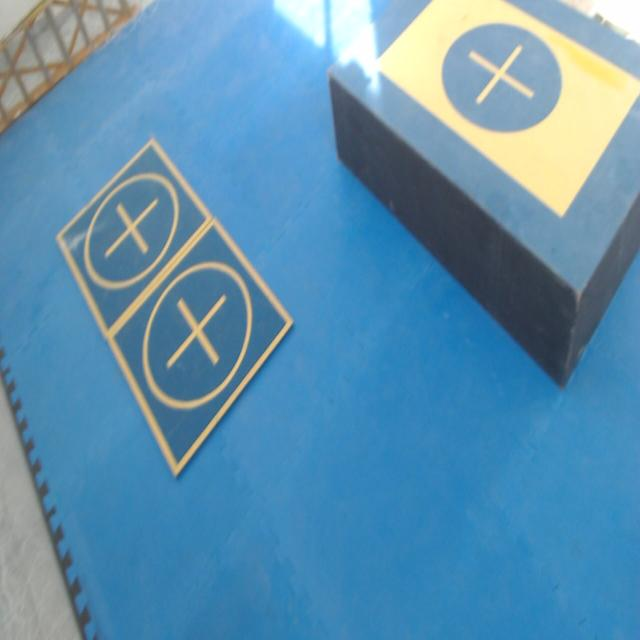base_inicio: (373, 0, 640, 218)
base_pouso: (106, 217, 293, 480), (55, 138, 213, 342)
